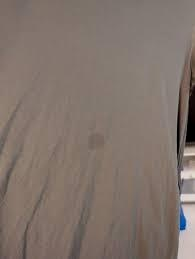oil: (79, 123, 111, 154)
